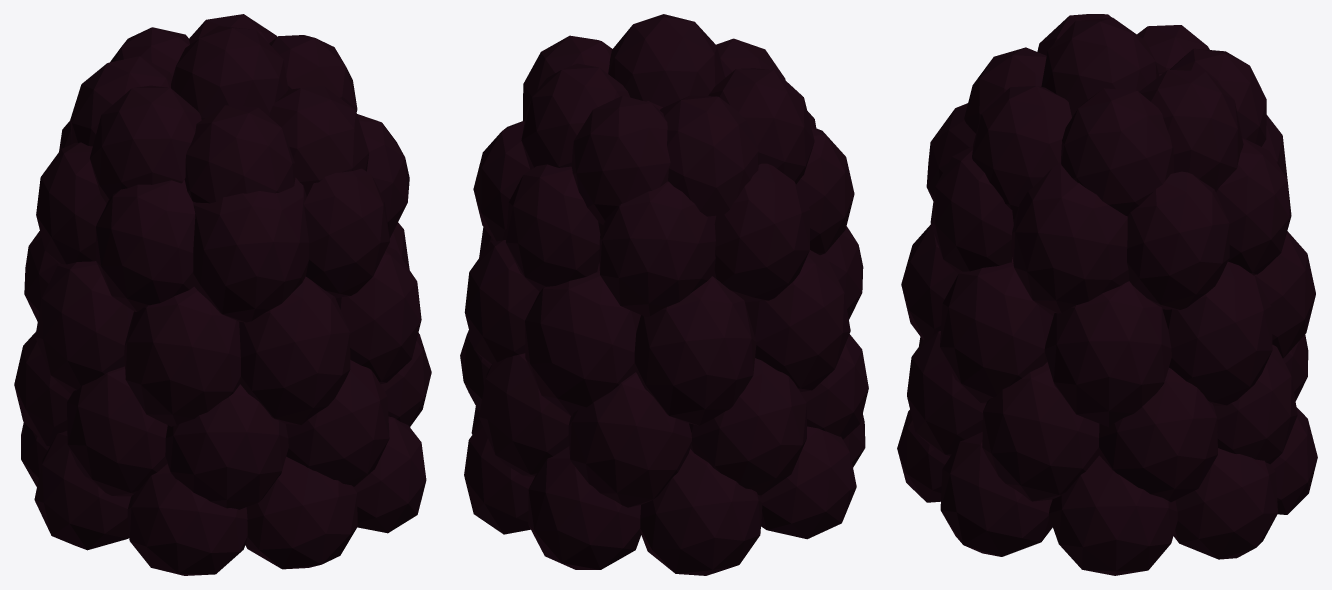
Rendered from Blackberry_01.fbx.
3 views of the same model, side by side, from view 1: azimuth 30°, elevation 25°; view 2: azimuth 150°, elevation 25°; view 3: azimuth 270°, elevation 25° (orthographic).
Parts seen in each view (by area): view 1: Blackberry_01; view 2: Blackberry_01; view 3: Blackberry_01.
Part boxes in pixels (<box>): Blackberry_01: <box>14,14,431,575</box>; Blackberry_01: <box>460,14,868,575</box>; Blackberry_01: <box>897,14,1317,575</box>.
Size of the model in its own units: 3.6 by 4.59 by 3.58.
